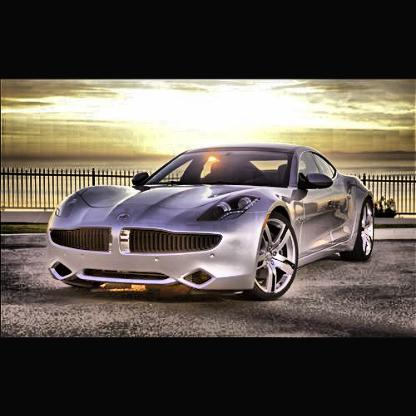Fisker Karma Sedan 2012: (47, 143, 378, 304)
